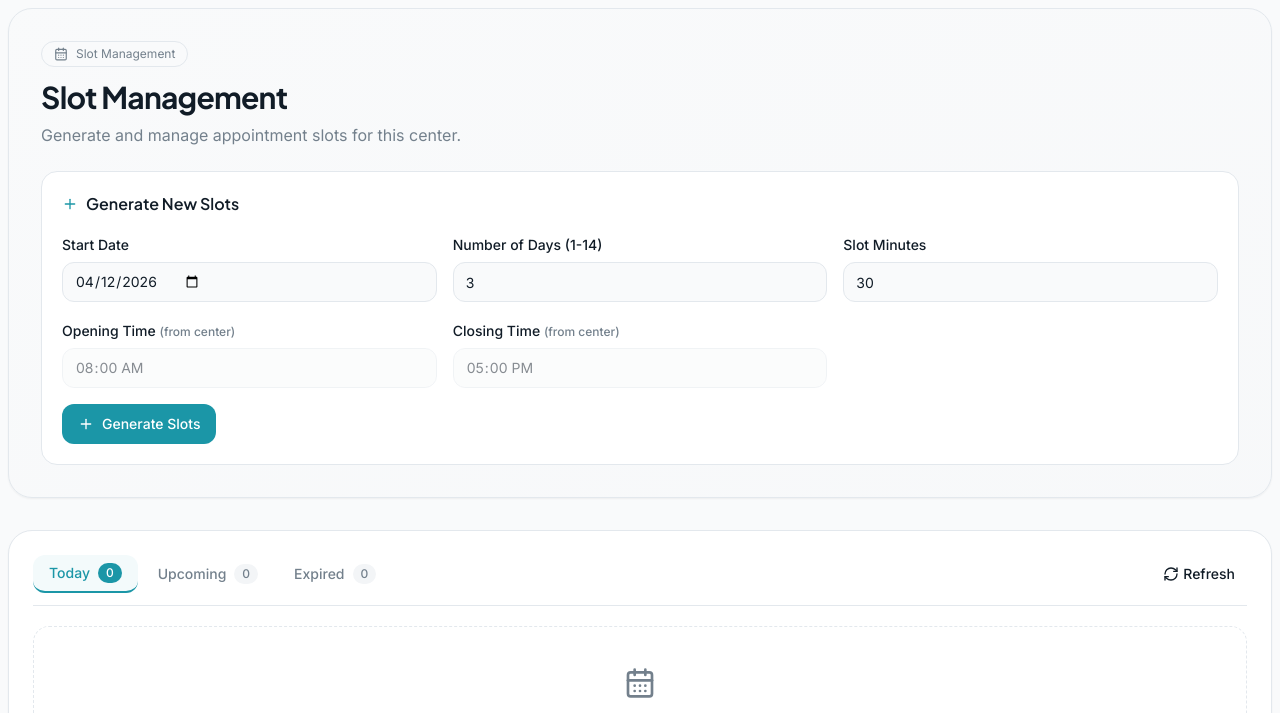
Test: SlotManagementPage › generate slots flow shows success and renders generated slot
# Submit the generate form
Step 1. Click the button "Generate Slots" → {"x": 139, "y": 424}, box [62,404,216,444]
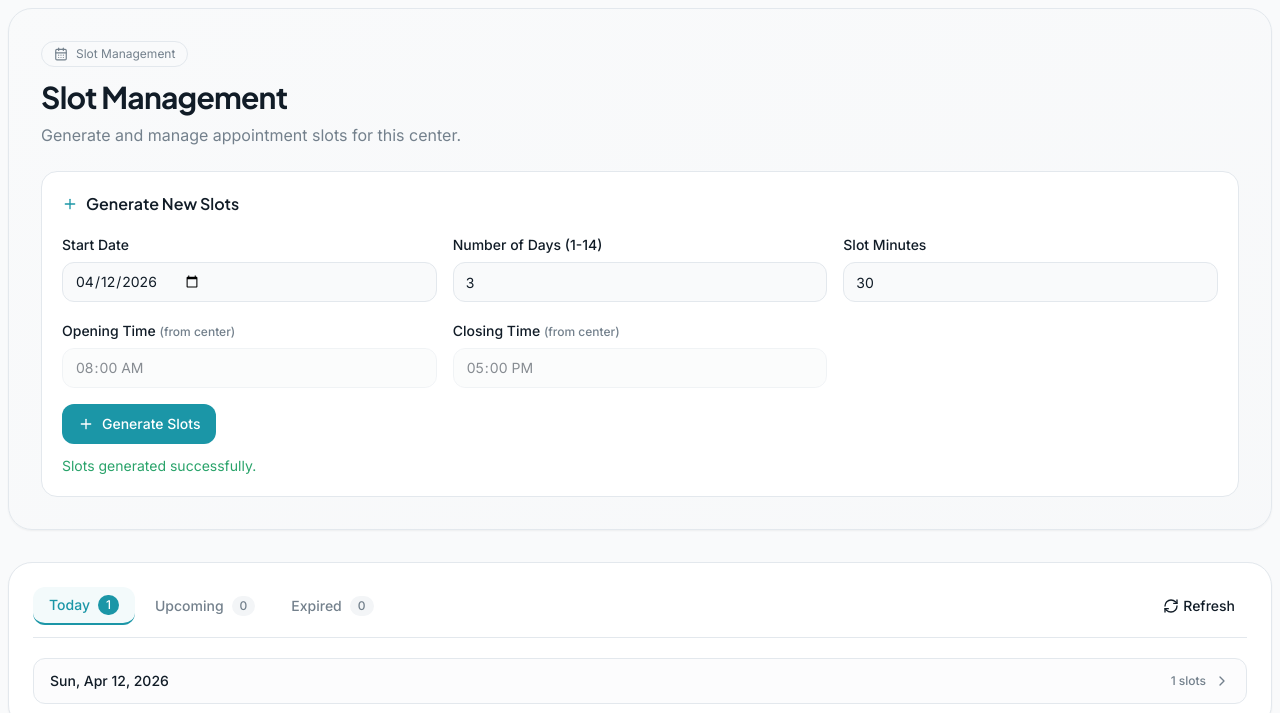
Check: the text "Slots generated successfully." is shown, box [62,457,256,474]
Step 2. Click the text "Sun, Apr 12, 2026" → {"x": 109, "y": 681}, box [50,671,169,691]
(page scrolled)
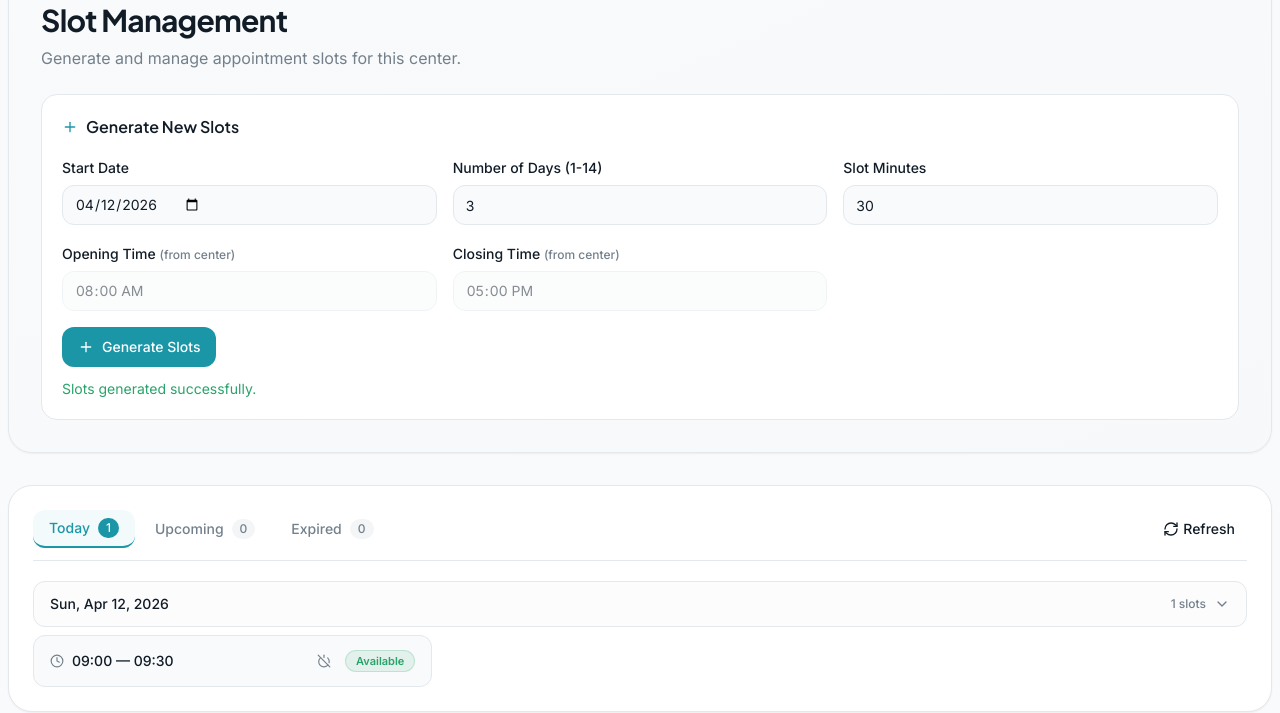
Check: the text "09:00 — 09:30" is shown, box [50,651,174,671]
